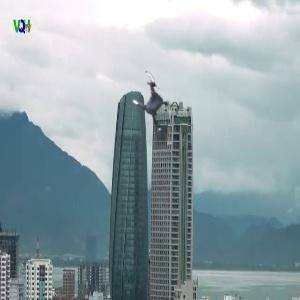drone: (124, 73, 179, 128)
